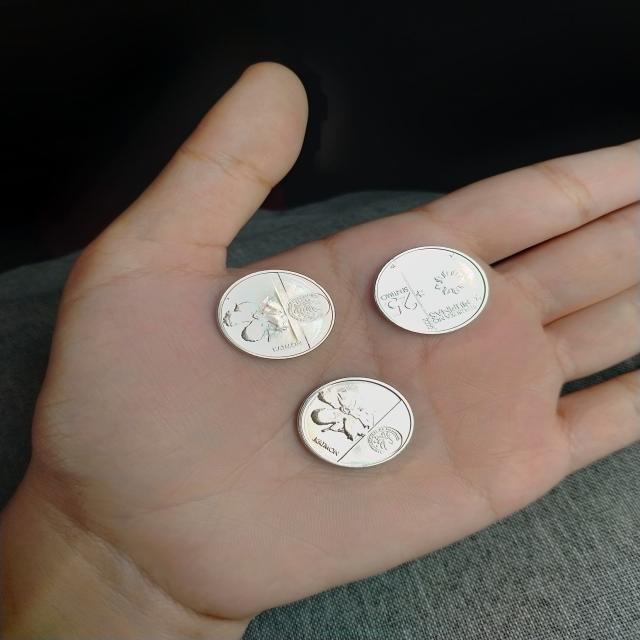25Cent_New_Back: (312, 386, 380, 438), (224, 298, 290, 350)
25Cent_New_Front: (377, 286, 426, 322)
